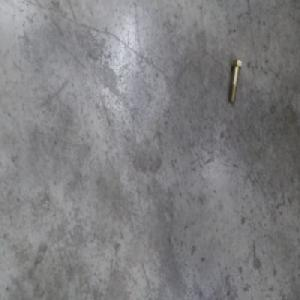Bolt: (227, 56, 240, 101)
